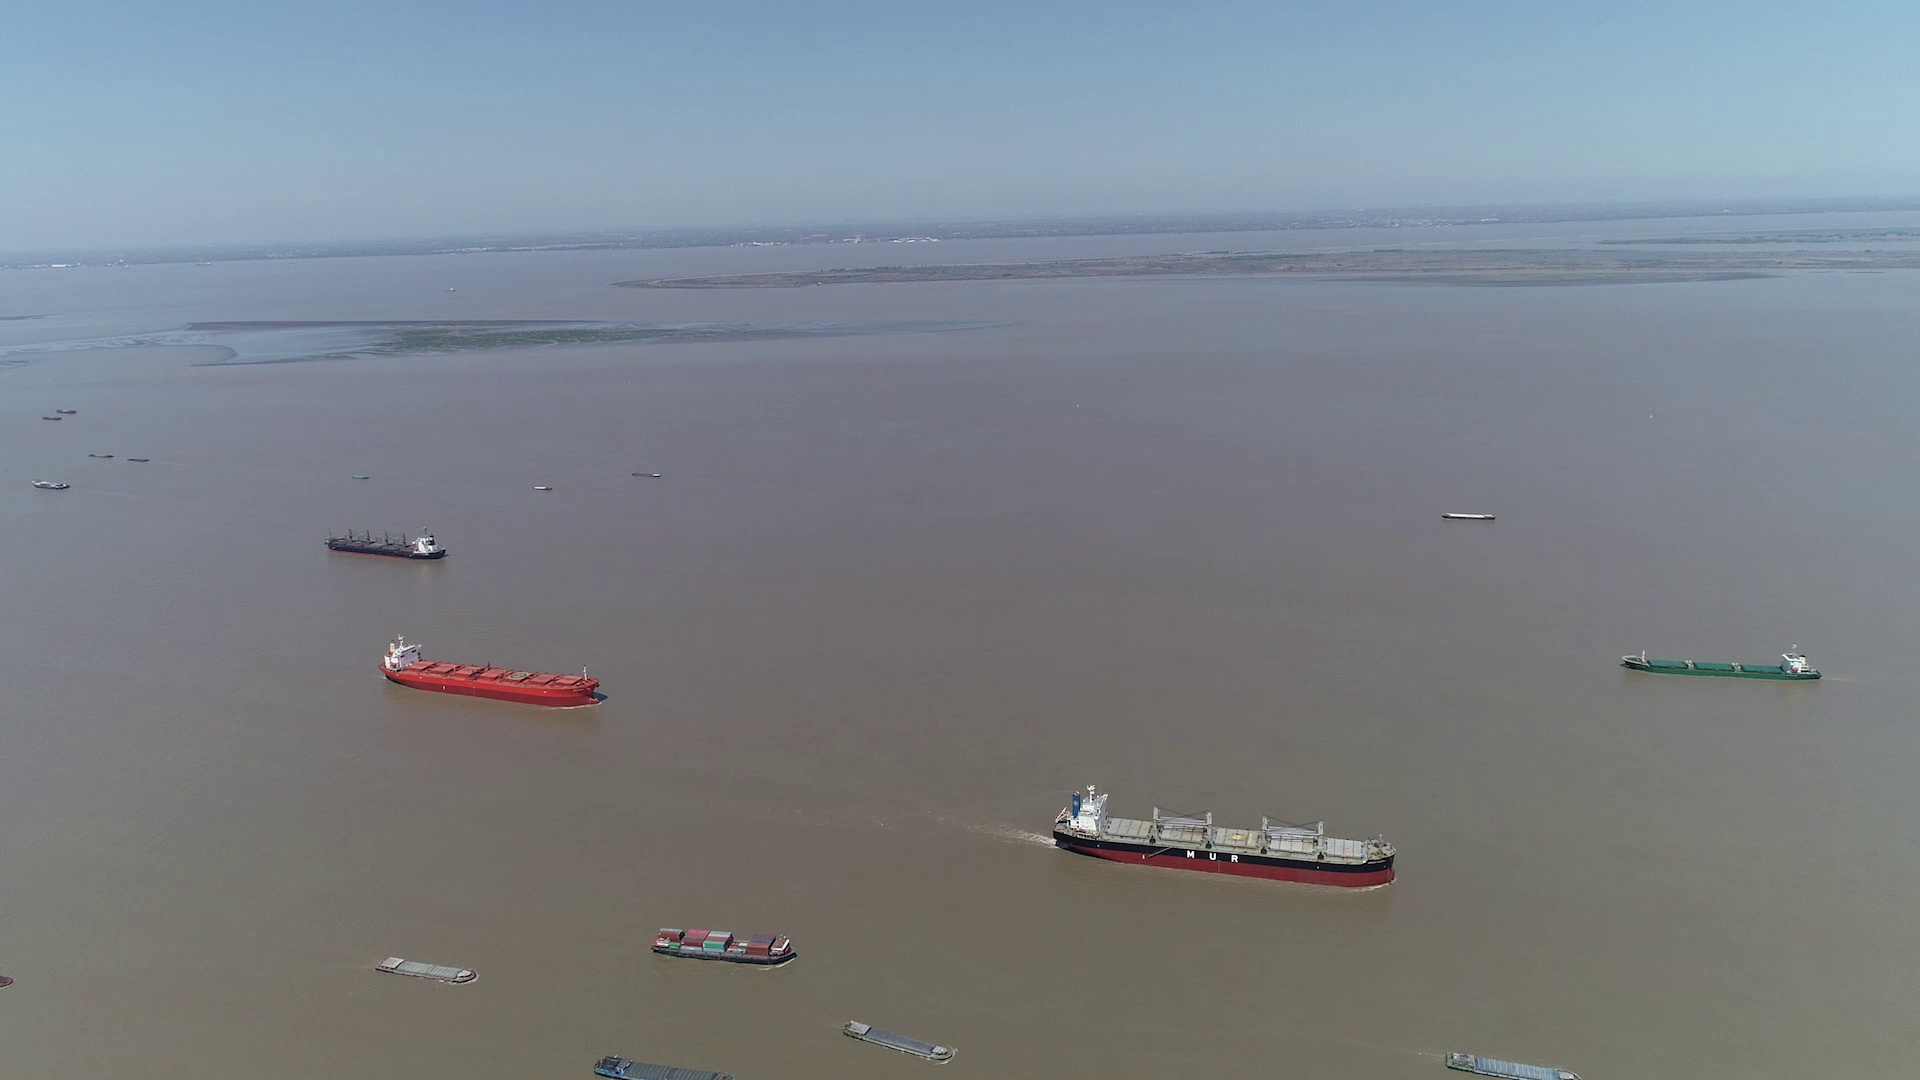ship: (1054, 786, 1400, 885), (382, 637, 601, 705), (1622, 649, 1822, 680), (650, 928, 796, 965), (843, 1021, 953, 1063), (324, 527, 447, 560), (1448, 1051, 1575, 1079), (596, 1055, 725, 1080), (373, 953, 477, 982), (1443, 512, 1495, 522), (34, 479, 73, 491), (530, 484, 549, 491)
